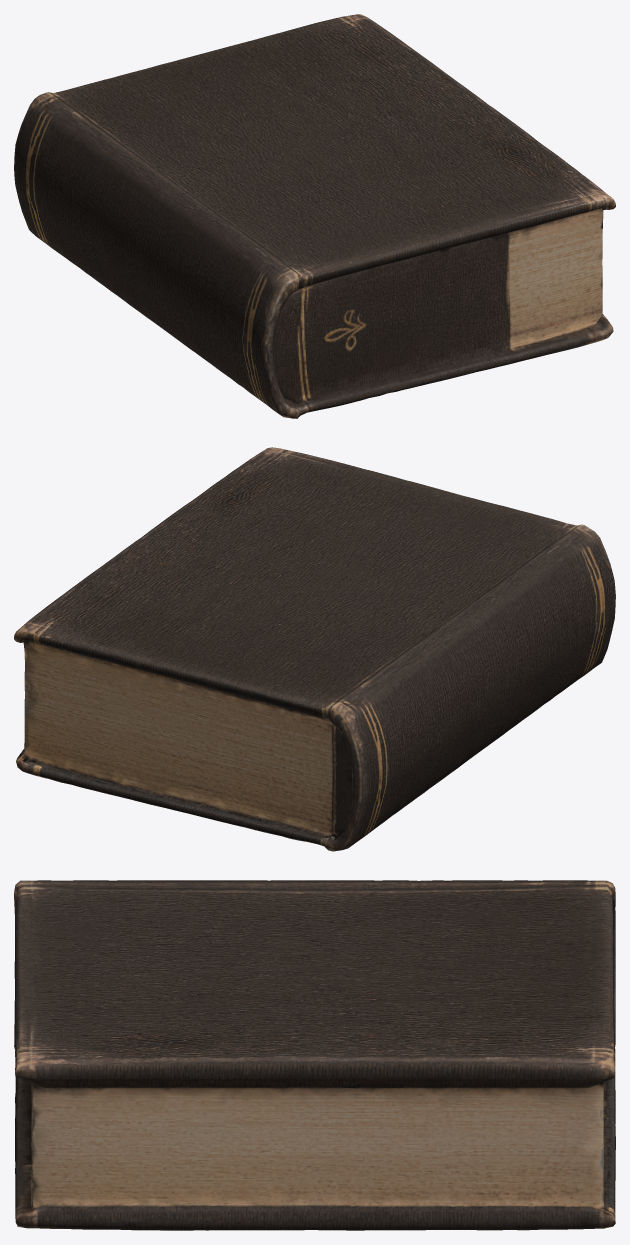
File: Prop_Book6.fbx
The picture shows the model from 3 angles, top to bottom: view 1: azimuth 30°, elevation 25°; view 2: azimuth 150°, elevation 25°; view 3: azimuth 270°, elevation 25°; orthographic projection. The views are drawn at different scales.
Parts seen in each view (by area): view 1: texture_mapping; view 2: texture_mapping; view 3: texture_mapping.
Part boxes in pixels (x1=…): texture_mapping: x1=14, y1=14, x2=615, y2=418; texture_mapping: x1=14, y1=447, x2=615, y2=851; texture_mapping: x1=14, y1=880, x2=615, y2=1230.
Bounding box in the file's own units: 0.7999 × 1 × 0.3234.
1 material, 1 textured.
